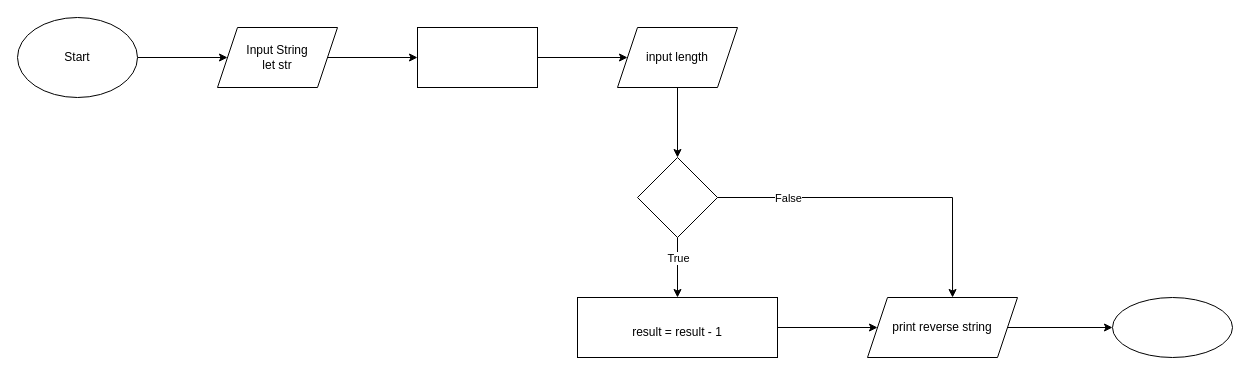
This 1250x375 diagram has some shape labels left out. The shapes that lost their labels are listed below. From the top down, each one's centre as x and y in pixels, then its label:
(477,57): Get String.length
(677,197): length > 0
(1172,327): Selesai
